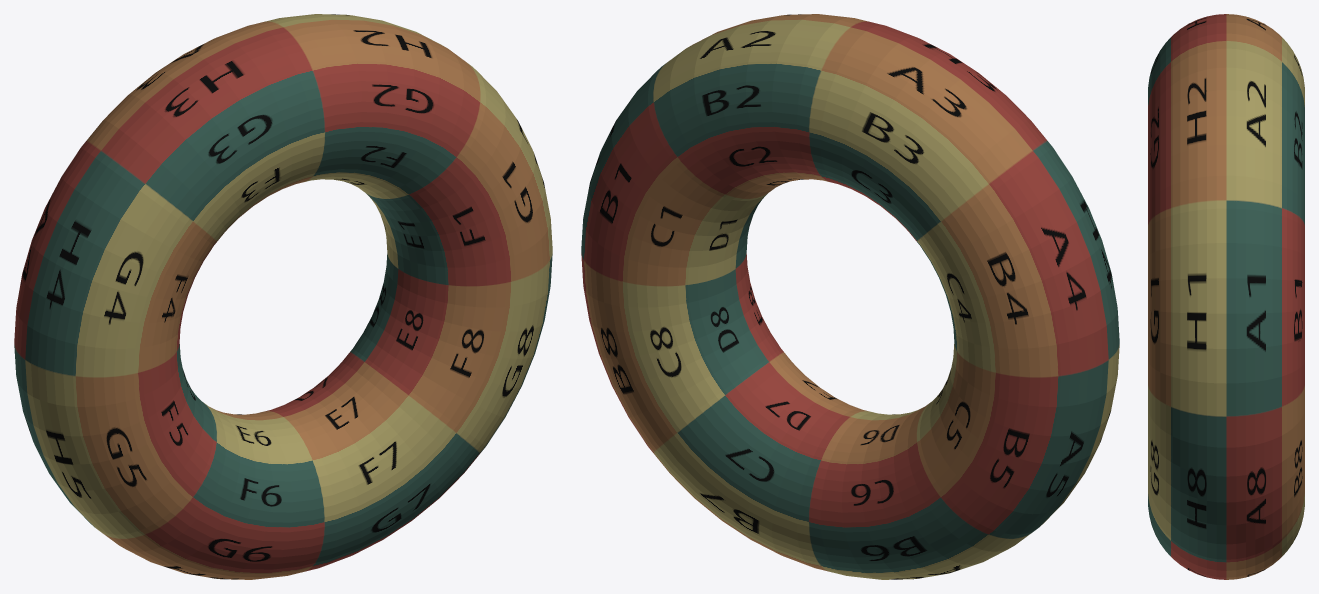
The model's file is texture_torus_R23_r29.glb.
3 views of the same model, side by side, from view 1: azimuth 30°, elevation 25°; view 2: azimuth 150°, elevation 25°; view 3: azimuth 270°, elevation 25° (orthographic). The views are drawn at different scales.
Parts seen in each view (by area): view 1: world; view 2: world; view 3: world.
Part boxes in pixels (bbox=[...]): world: bbox=[14, 14, 552, 579]; world: bbox=[581, 14, 1119, 579]; world: bbox=[1148, 14, 1304, 579].
Size of the model in its own units: 35.07 by 35 by 9.71.
1 material, 1 textured.
